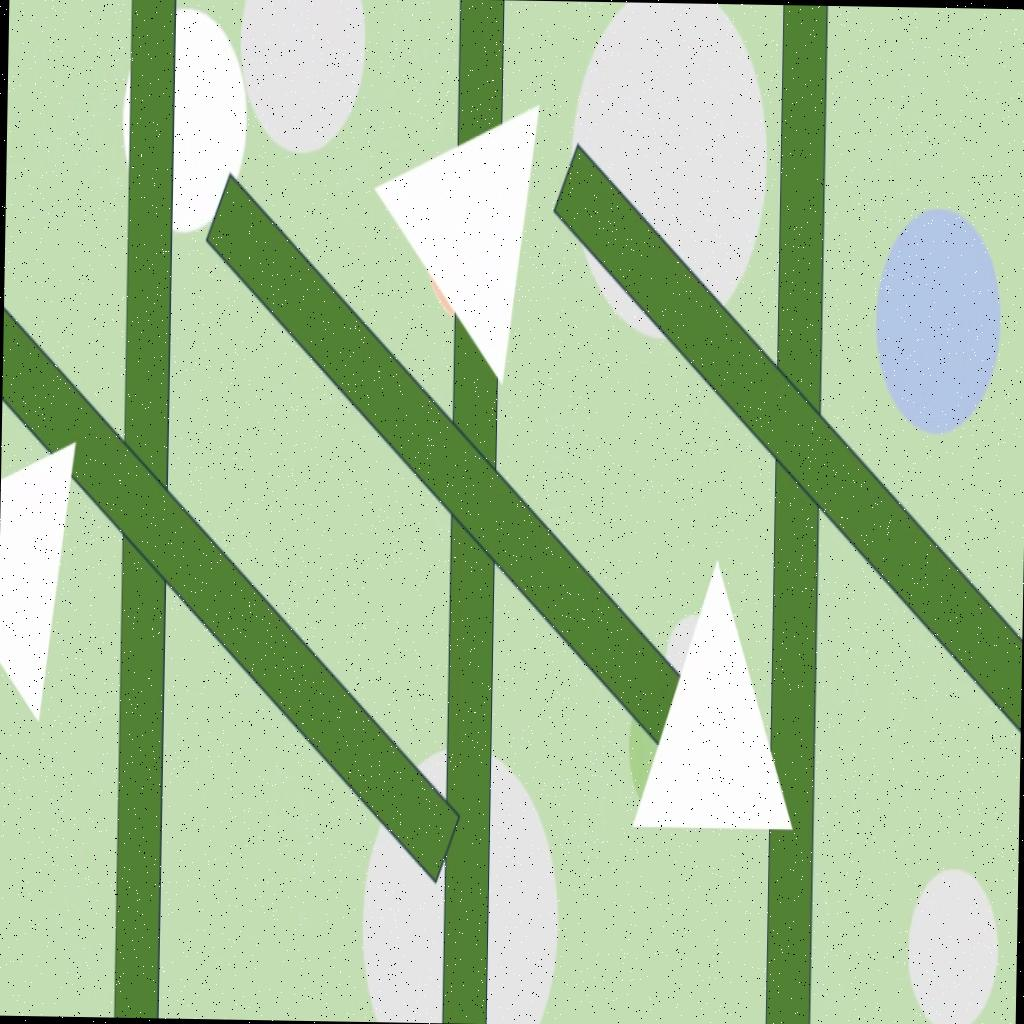Circle: (565, 1, 773, 340), (360, 745, 559, 1024), (873, 204, 1004, 440), (120, 2, 251, 235), (235, 0, 368, 155), (906, 865, 1002, 1024), (628, 649, 721, 804), (426, 190, 504, 320), (662, 610, 714, 700)
